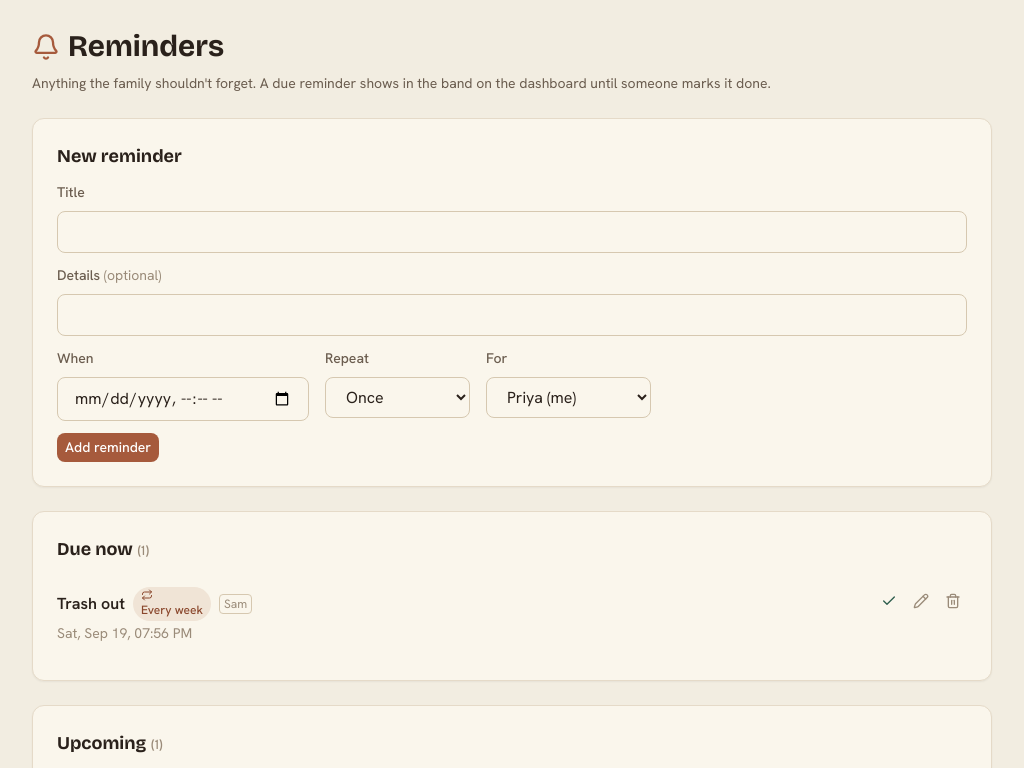
RemindersPage › create form › validates the date/time
Step 1. Type "Water plants" into the field labelled "Title" → (512, 232), box [57,211,967,253]
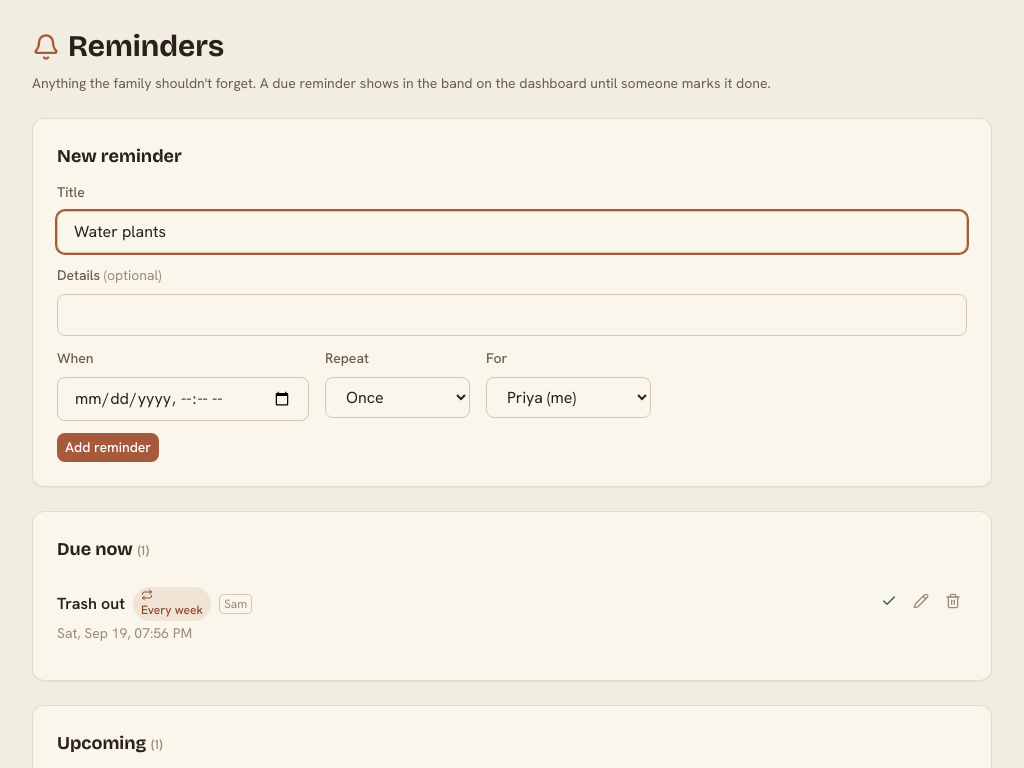
Step 2. Click the button "Add reminder" → (108, 448), box [57,433,159,462]
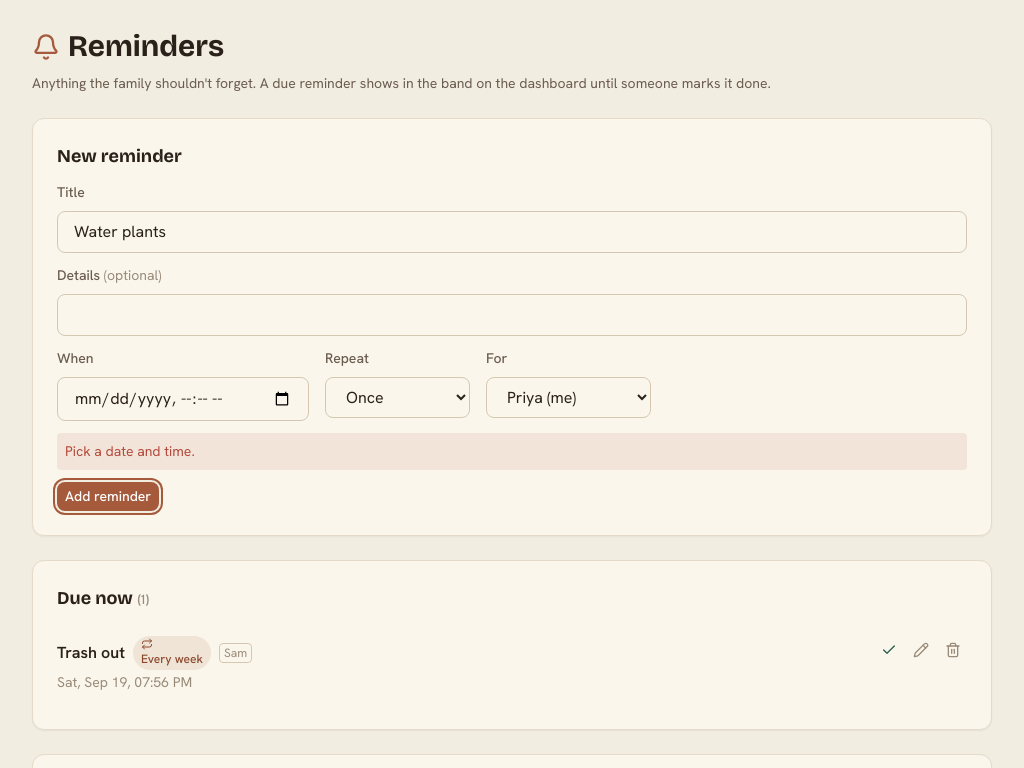
Now the text "Pick a date and time." is shown, box [57,433,967,470]
